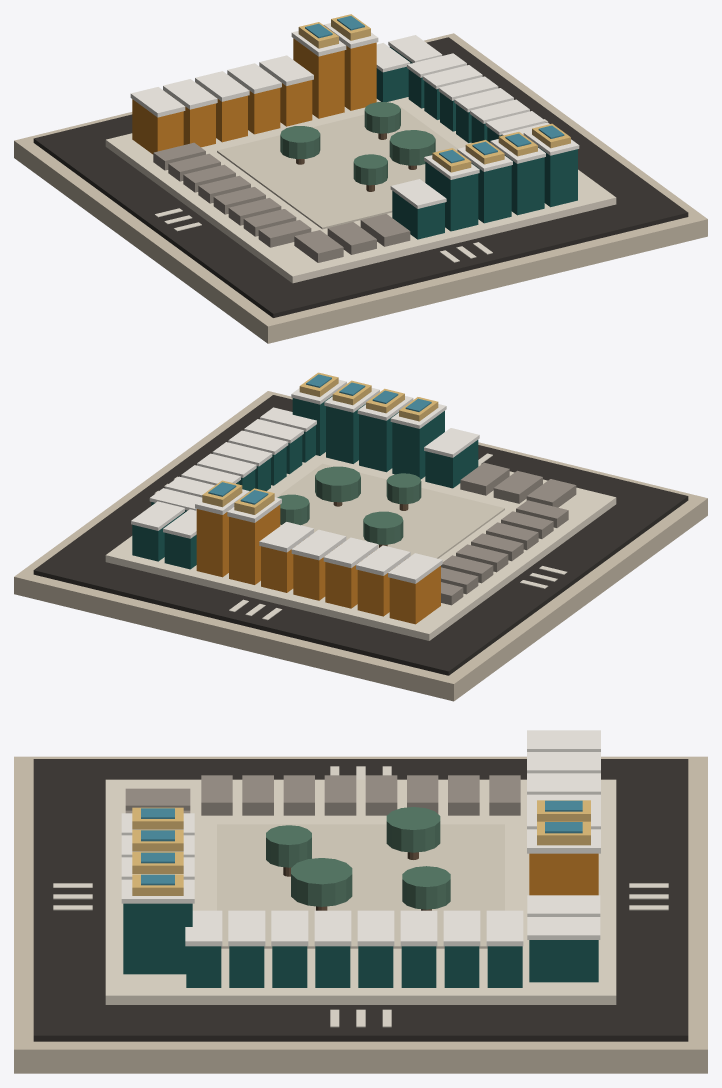
File: escena_1_centro_manzana.glb
The picture shows the model from 3 angles, top to bottom: view 1: azimuth 30°, elevation 25°; view 2: azimuth 150°, elevation 25°; view 3: azimuth 270°, elevation 25°; orthographic projection. The views are drawn at different scales.
Size of the model in its own units: 1.06 by 0.241 by 1.06.
